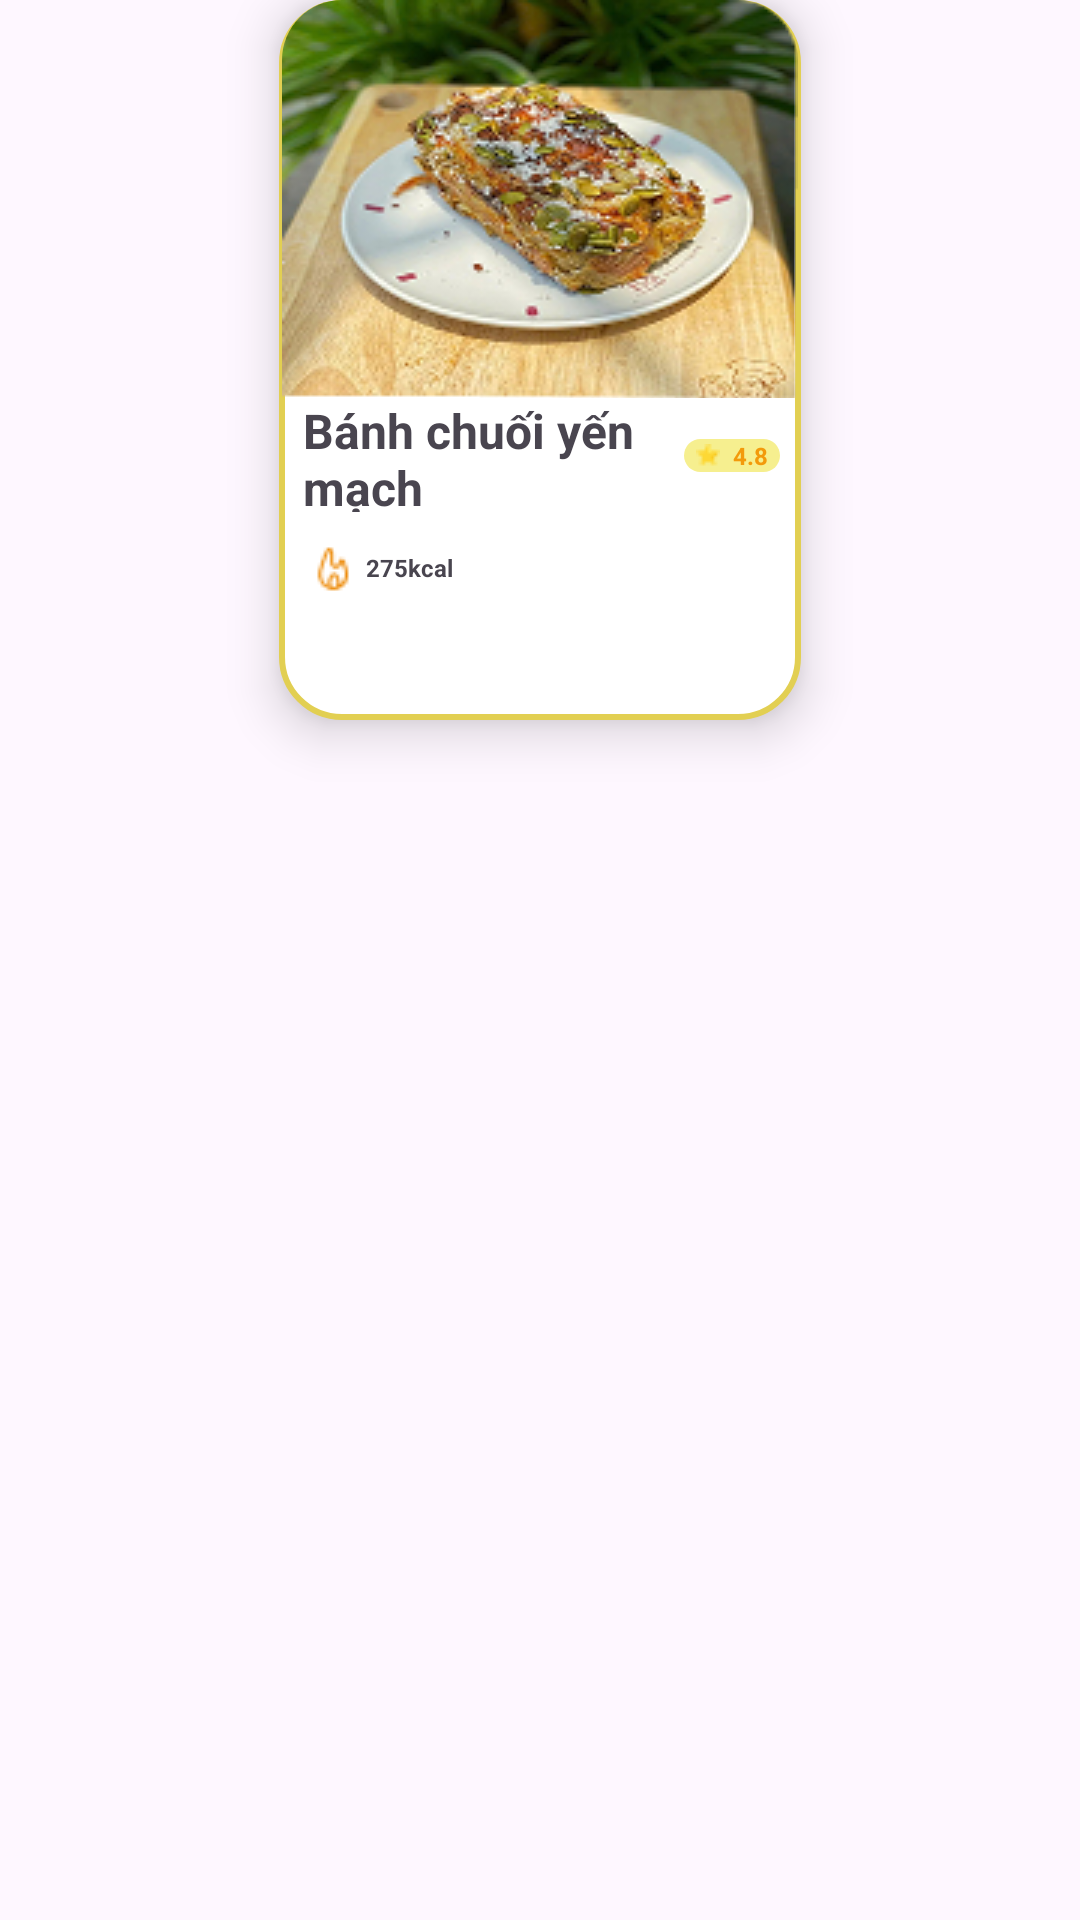

Where to tap for icons on this 1080 × 1920 app screen, as point (x, y):
lets calories: point (333, 569)
noto star: point (708, 454)
